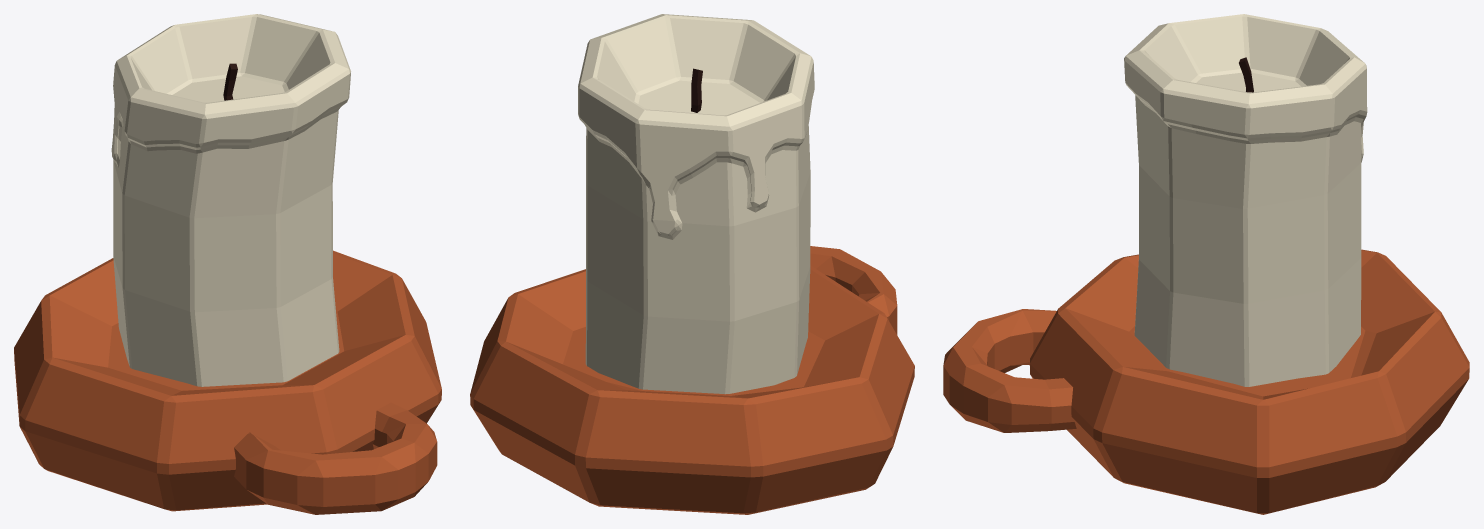
Rendered from candle.fbx.
The picture shows the model from 3 angles, left to right: view 1: azimuth 30°, elevation 25°; view 2: azimuth 150°, elevation 25°; view 3: azimuth 270°, elevation 25°; orthographic projection.
Visible parts, largest first — view 1: Candle, CandleHolder; view 2: Candle, CandleHolder; view 3: Candle, CandleHolder.
Part boxes in pixels (x1,y1,x2,y2): Candle: (111,14,350,386); CandleHolder: (14,250,441,514); Candle: (578,14,814,394); CandleHolder: (470,246,914,514); Candle: (1124,14,1367,386); CandleHolder: (943,249,1469,514).
Bounding box in the file's own units: 30.11 × 27.64 × 34.17.
